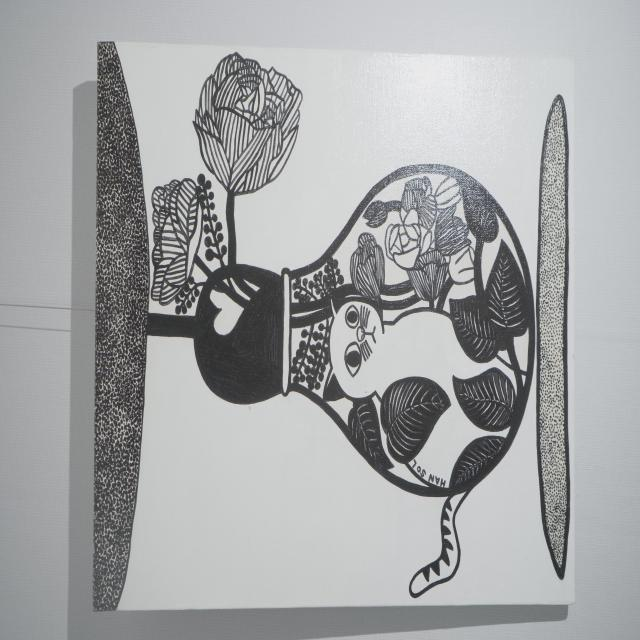painting: (93, 42, 574, 610)
